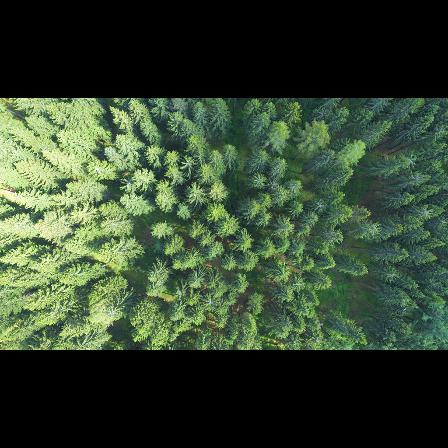Sick: (116, 173, 139, 192), (178, 154, 196, 175), (309, 195, 328, 213), (247, 172, 267, 189), (200, 291, 218, 309), (419, 206, 434, 221)
